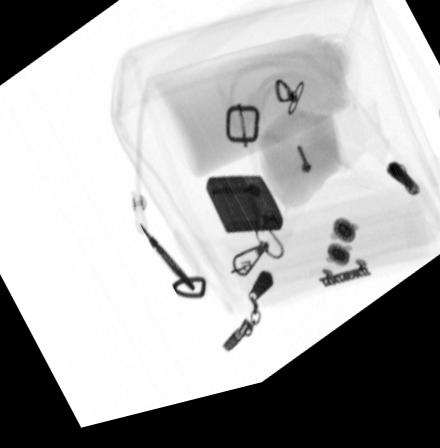Lighter: (205, 185, 284, 245)
